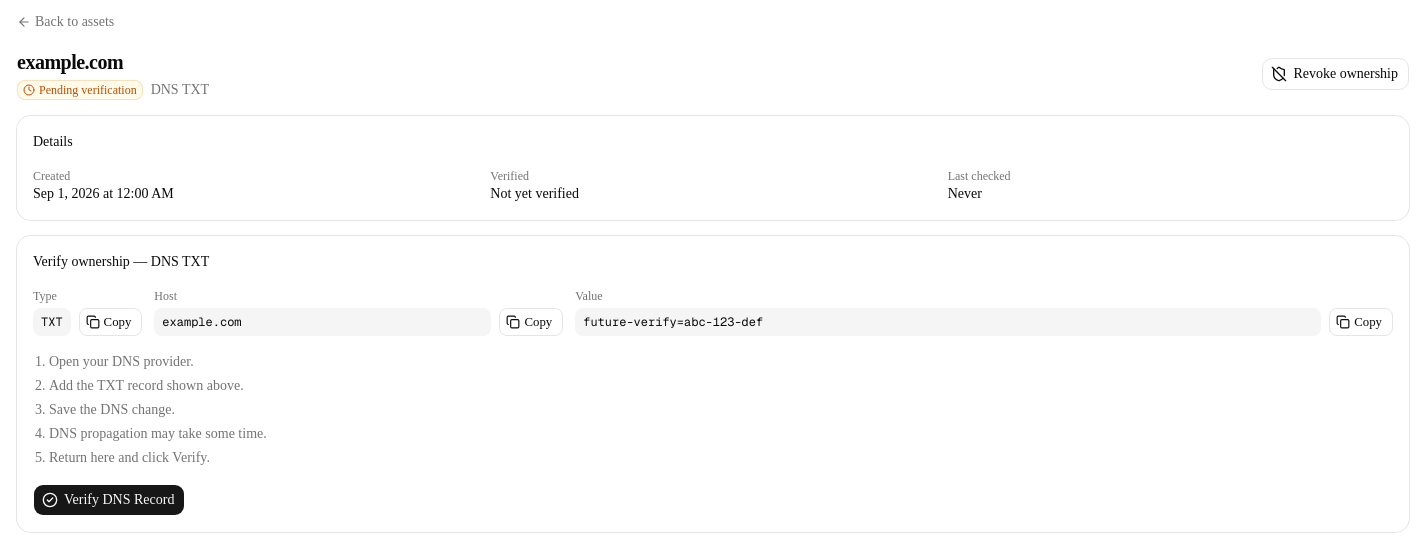
Scenario: AssetDetailPage › a successful verification updates the detail view to the verified state
Step 1. Click the button "Verify DNS Record" → [109, 500], box top-left (33, 484), bottom-right (185, 516)
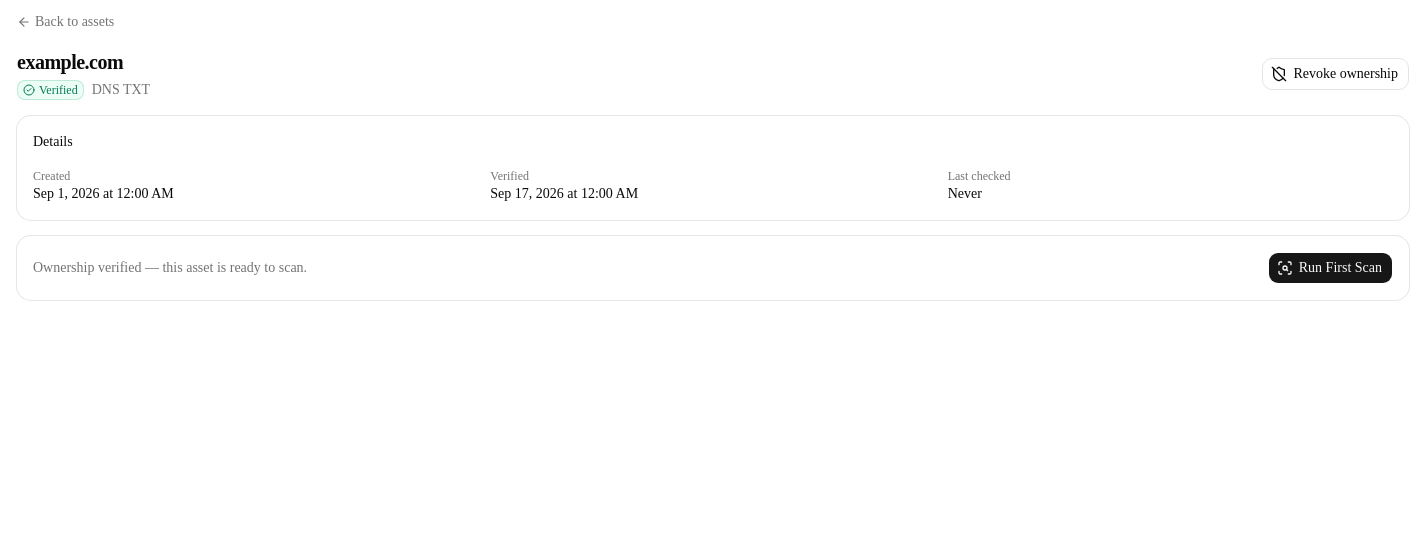
Check: the text "Ownership verified — this asset is ready to scan." is shown, box top-left (33, 258), bottom-right (307, 278)
Check: the button "Run First Scan" is shown, box top-left (1268, 252), bottom-right (1393, 284)
